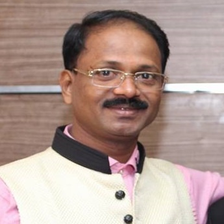no_mask: (70, 33, 163, 135)
